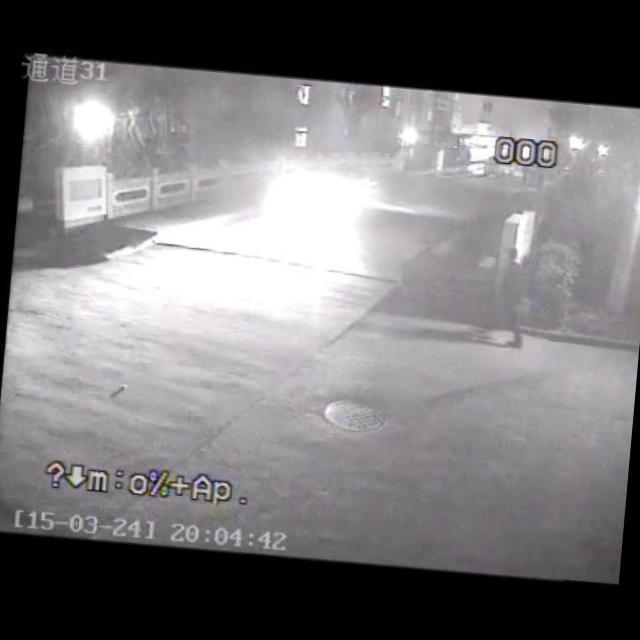person: (462, 242, 534, 350)
